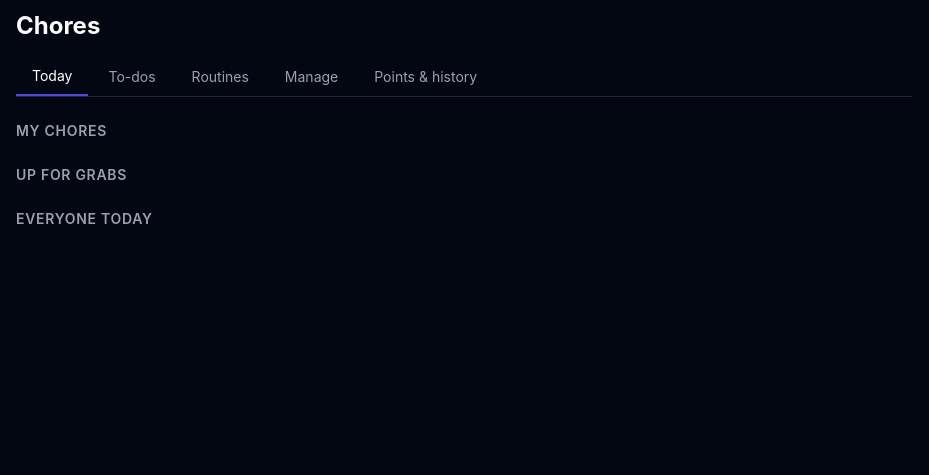
Test case: Manage › shows counts by person and the chores and routines in words
The width and height of the screenshot is (929, 475).
Click the tab "Manage" at (312, 77), box x1=269 y1=58 x2=354 y2=96
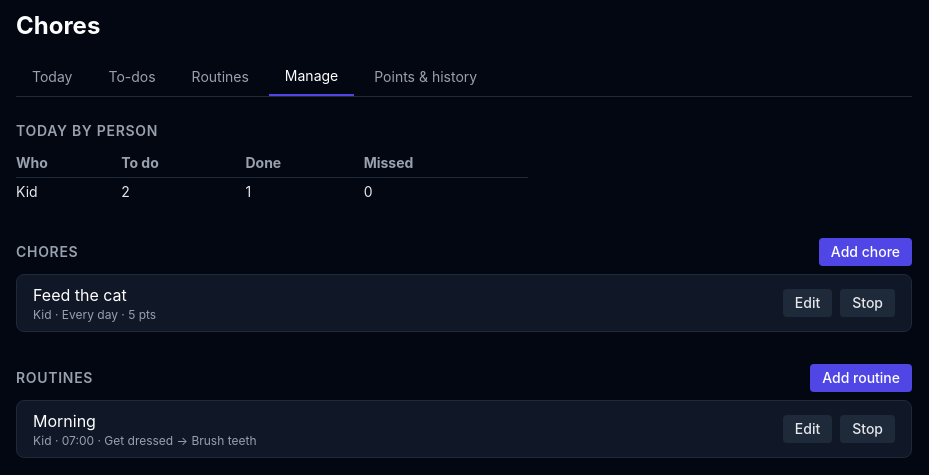
Now the text "Kid · Every day · 5 pts" is shown, box x1=33 y1=307 x2=156 y2=323
Now the cells read "Kid", "2", "1", "0", in this order, box x1=16 y1=178 x2=121 y2=206; x1=121 y1=178 x2=245 y2=206; x1=246 y1=178 x2=364 y2=206; x1=364 y1=178 x2=528 y2=206
Now the text "Kid · 07:00 · Get dressed → Brush teeth" is shown, box x1=33 y1=433 x2=256 y2=449
